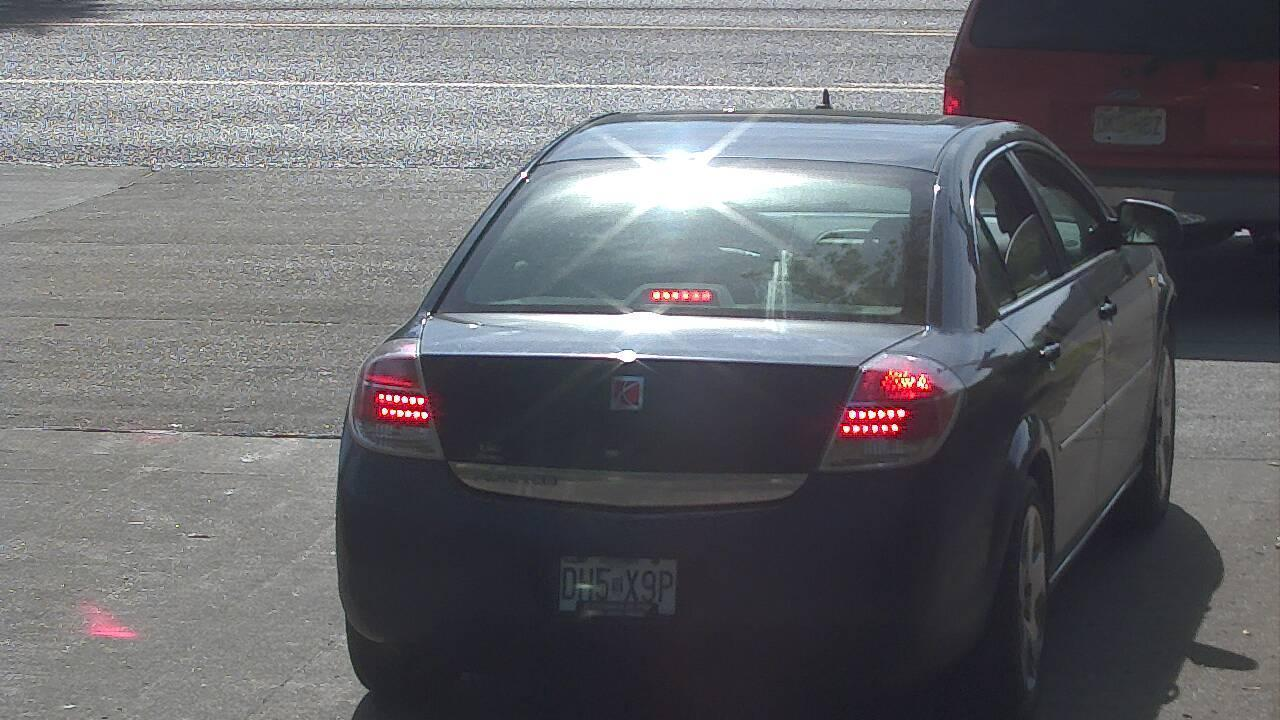placa de veiculo: (546, 552, 690, 627)
